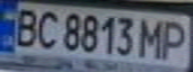1: (97, 12, 118, 55)
3: (115, 14, 139, 57)
8: (57, 9, 84, 52), (78, 11, 100, 54)
B: (6, 6, 42, 48)
C: (30, 8, 63, 50)
M: (136, 16, 169, 60)
P: (157, 17, 193, 61)
